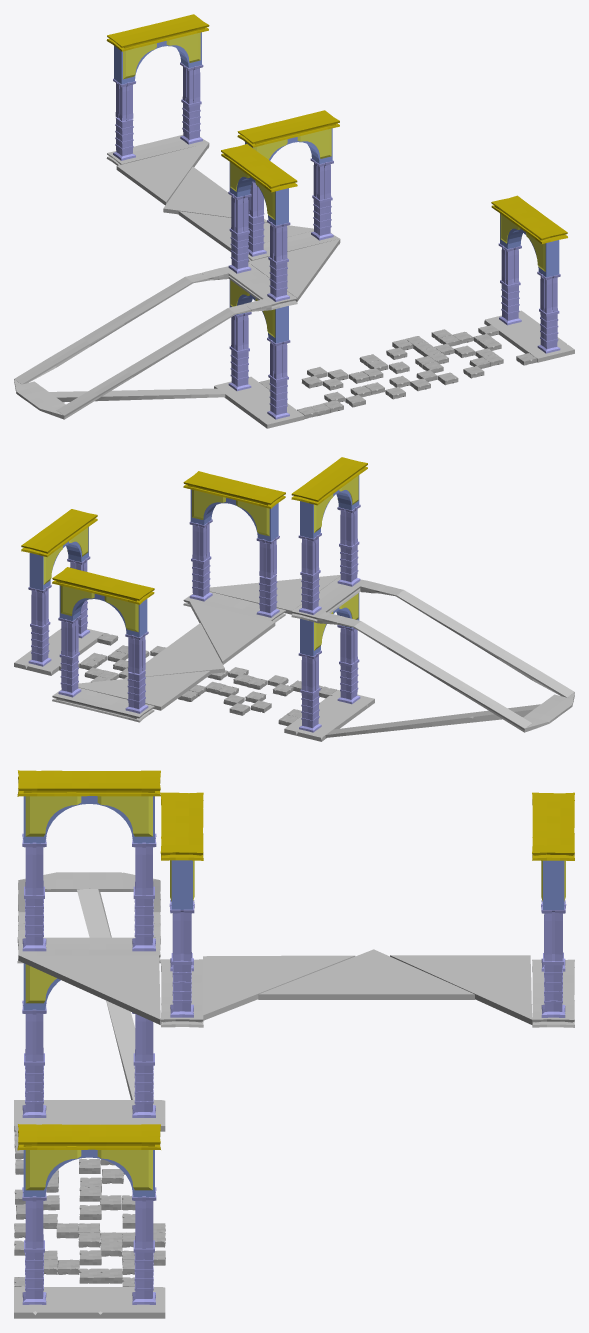
Rendered from TemploViento.fbx.
The picture shows the model from 3 angles, top to bottom: view 1: azimuth 30°, elevation 25°; view 2: azimuth 150°, elevation 25°; view 3: azimuth 270°, elevation 25°; orthographic projection. The views are drawn at different scales.
Parts seen in each view (by area): view 1: Plane.064, Circle.001, Circle.004, Circle.003, Plane.006, Plane.063, Plane.003, Plane.001, Plane, Plane.004, Plane.051, Cube.025 (+22 smaller); view 2: Plane.064, Circle.002, Circle.004, Circle.001, Plane.006, Plane.063, Plane.051, Plane.003, Plane, Plane.004, Circle.003, Plane.005 (+24 smaller); view 3: Circle.004, Circle.003, Circle.002, Circle.001, Plane.001, Plane.004, Plane, Plane.003, Plane.063, Plane.006, Cube.021, Cube.010 (+19 smaller).
Part boxes in pixels (bbox=[...]): Plane.064: bbox=[14, 268, 271, 419]; Circle.001: bbox=[116, 143, 209, 205]; Circle.004: bbox=[163, 166, 267, 222]; Circle.003: bbox=[248, 239, 340, 301]; Plane.006: bbox=[106, 14, 209, 51]; Plane.063: bbox=[237, 110, 339, 147]; Plane.003: bbox=[214, 376, 304, 428]; Plane.001: bbox=[484, 310, 574, 362]; Plane: bbox=[491, 195, 567, 243]; Plane.004: bbox=[221, 144, 297, 192]; Plane.051: bbox=[49, 388, 225, 402]; Cube.025: bbox=[113, 103, 202, 160]; Plane.064: bbox=[317, 581, 574, 732]; Circle.002: bbox=[189, 601, 275, 664]; Circle.004: bbox=[124, 623, 224, 678]; Circle.001: bbox=[78, 670, 210, 710]; Plane.006: bbox=[52, 567, 154, 604]; Plane.063: bbox=[183, 471, 285, 508]; Plane.051: bbox=[325, 704, 540, 737]; Plane.003: bbox=[284, 690, 374, 741]; Plane: bbox=[21, 509, 97, 557]; Plane.004: bbox=[291, 457, 367, 505]; Circle.003: bbox=[209, 575, 340, 614]; Plane.005: bbox=[52, 687, 154, 722]; Circle.004: bbox=[258, 949, 474, 999]; Circle.003: bbox=[18, 955, 160, 1024]; Circle.002: bbox=[202, 955, 355, 1020]; Circle.001: bbox=[390, 955, 532, 1024]; Plane.001: bbox=[14, 1287, 165, 1318]; Plane.004: bbox=[17, 770, 160, 796]; Plane: bbox=[17, 1124, 160, 1150]; Plane.003: bbox=[14, 1100, 165, 1131]; Plane.063: bbox=[160, 792, 203, 860]; Plane.006: bbox=[532, 792, 574, 860]; Cube.021: bbox=[25, 796, 152, 836]; Cube.010: bbox=[25, 1150, 152, 1190].
Bounding box in the file's own units: 7932 × 3516 × 5227.
